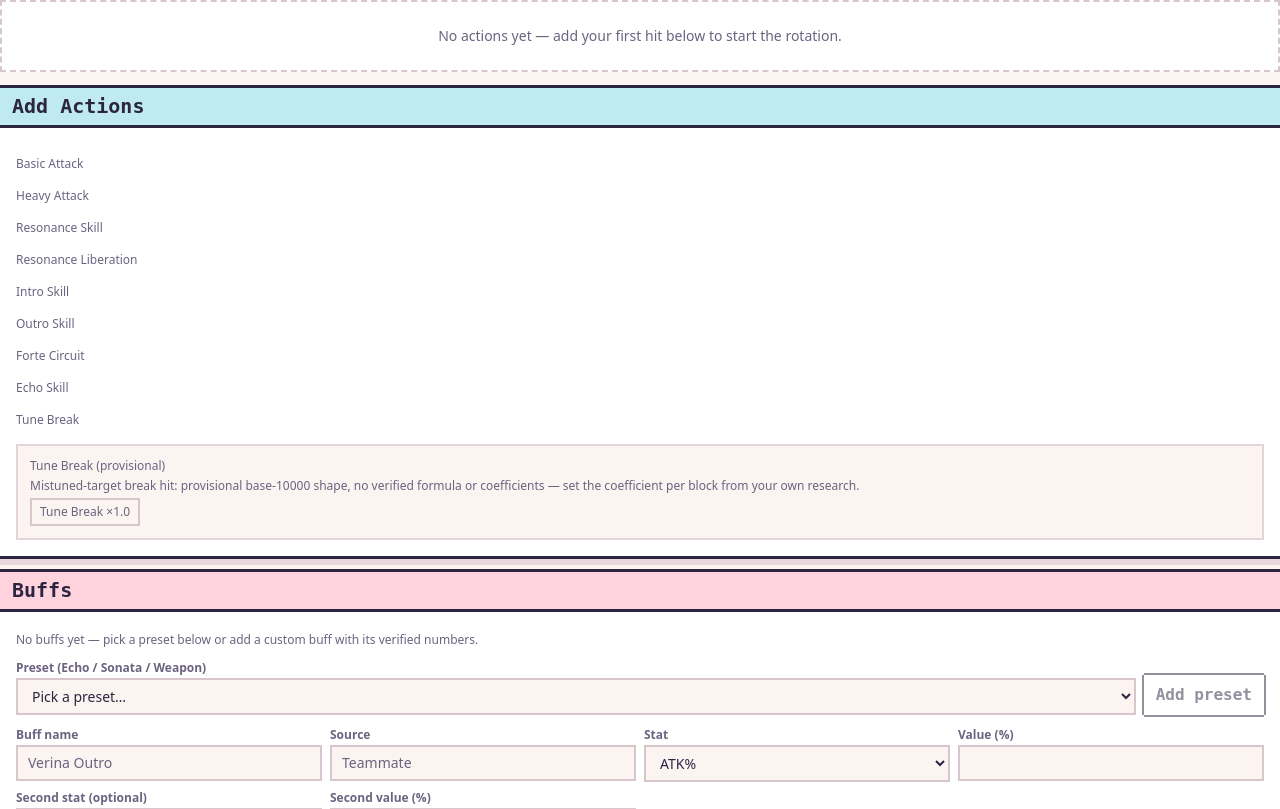
Scenario: RotationTimeline buff presets › hides auto-applied presets from the picker (Sierra Gale 5pc)
Select "Moonlit Clouds 5pc (incoming)" in the dropdown labelled "Preset (Echo / Sonata / Weapon)" at (576, 696), box [16,678,1136,715]
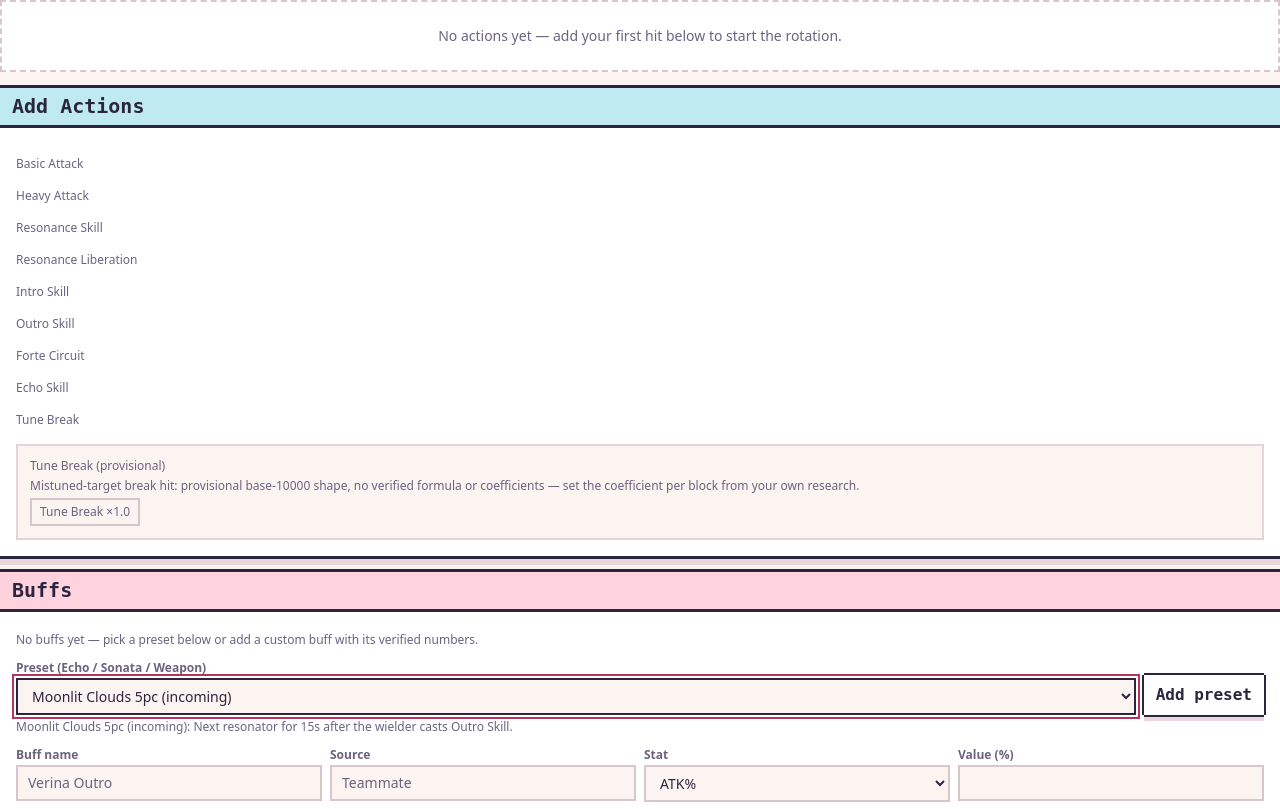
Expected: the button "Add preset" is enabled, [1144,675,1264,715]
